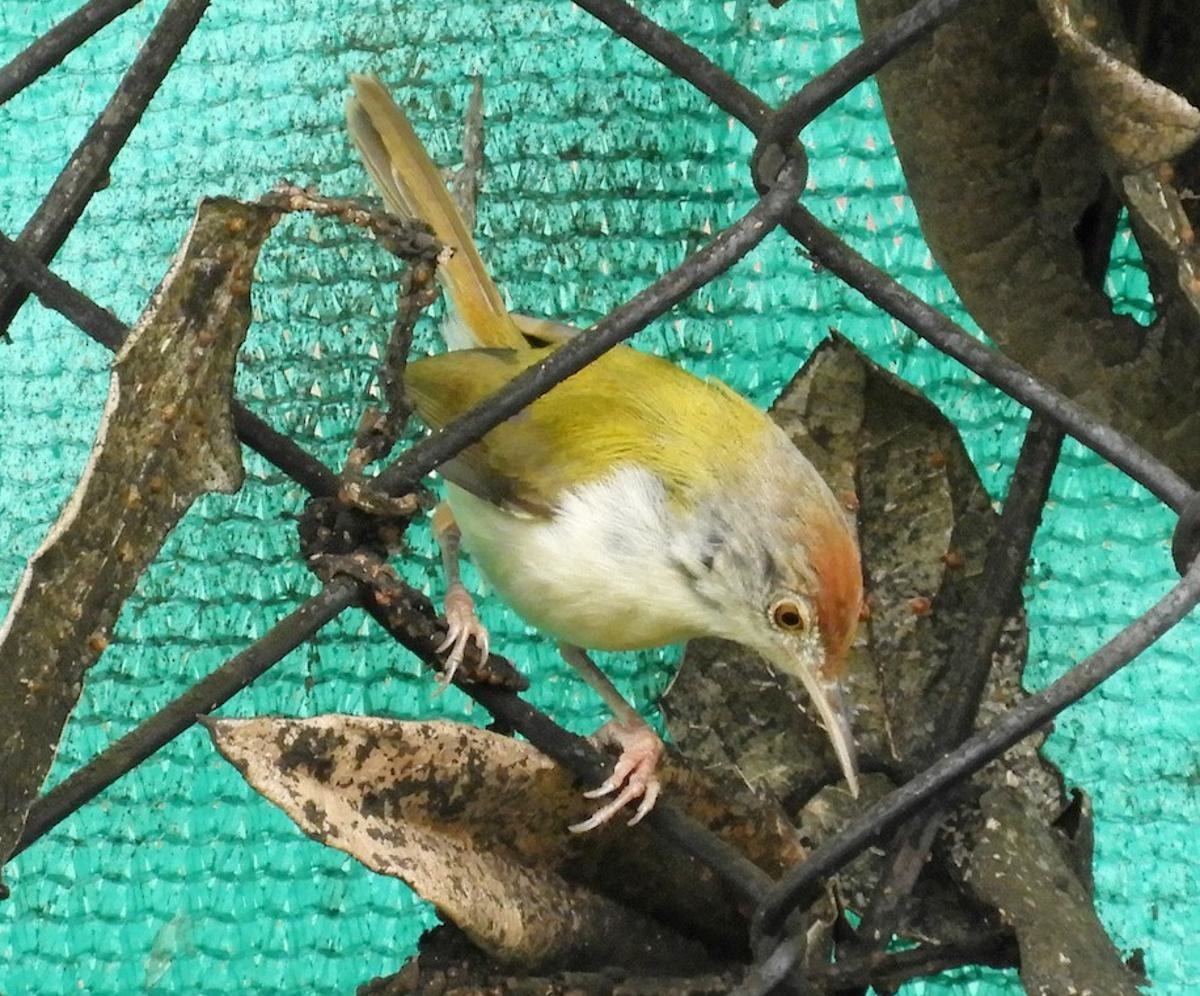tailorbird: (366, 106, 930, 809)
